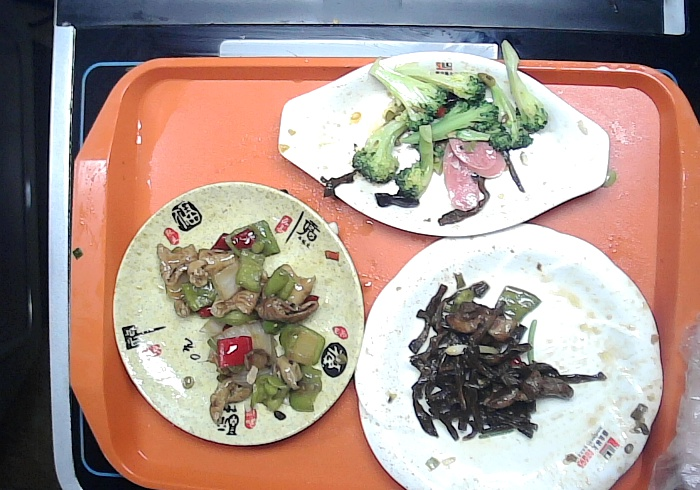NLDX-Bai_Zhe_Yuan_Pan: (348, 218, 668, 490)
NLDX-Fu_Zi_Yuan_Pan: (108, 177, 370, 450)
NLDX-Yu_Pan: (270, 48, 615, 240)
